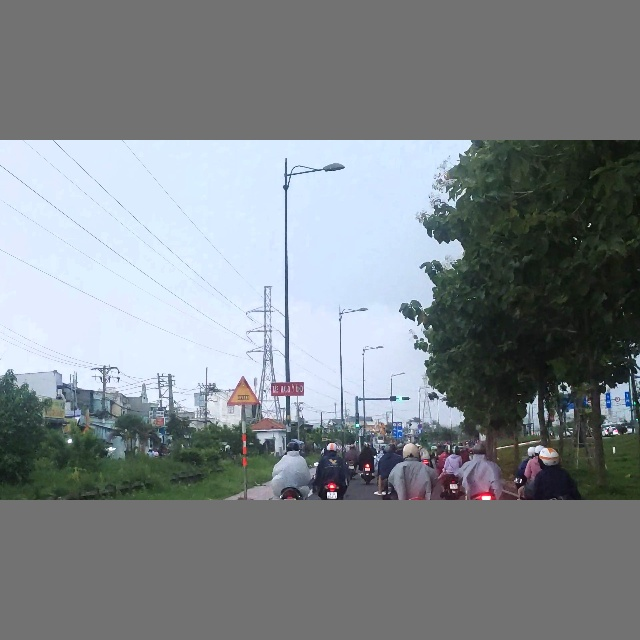W.210: (227, 376, 259, 405)
